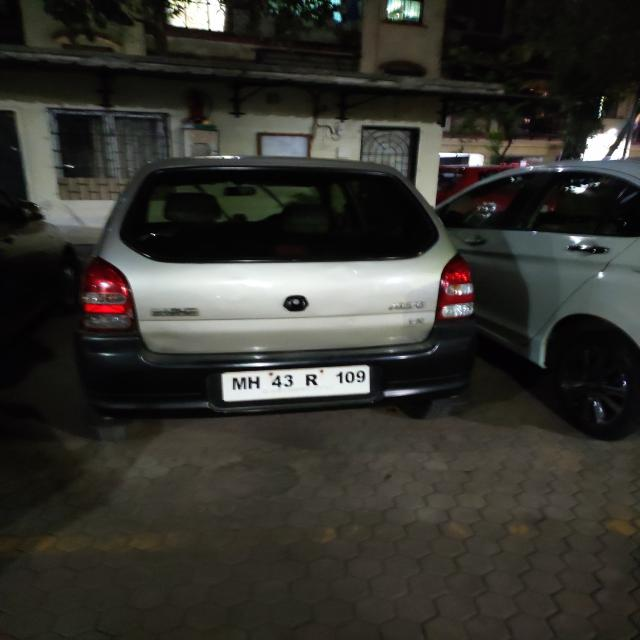Number-Plate: (229, 364, 369, 400)
